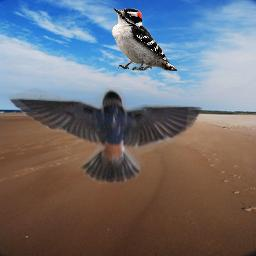Swallow: (3, 87, 205, 184)
Woodpecker: (111, 8, 177, 71)
